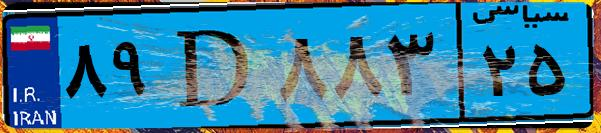2: (475, 38, 525, 113)
3: (385, 28, 445, 110)
5: (525, 38, 570, 115)
8: (270, 28, 330, 110), (330, 28, 385, 110), (57, 26, 110, 100)
9: (110, 28, 158, 98)
D: (158, 12, 270, 120)
